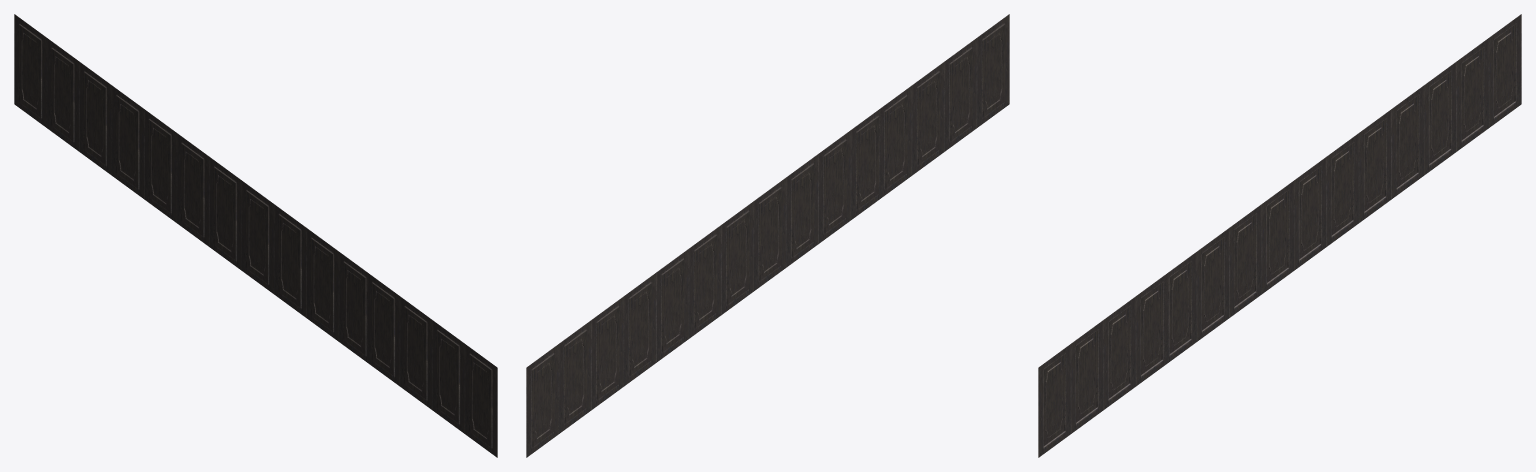
File: Wall_Panel_Test.fbx
The picture shows the model from 3 angles, left to right: view 1: azimuth 30°, elevation 25°; view 2: azimuth 150°, elevation 25°; view 3: azimuth 330°, elevation 25°; orthographic projection.
Parts seen in each view (by area): view 1: WallPanel9, WallPanel13, WallPanel11, WallPanel1, WallPanel10, WallPanel12, WallPanel, WallPanel2, WallPanel3, WallPanel6, WallPanel14, WallPanel5 (+3 smaller); view 2: WallPanel9, WallPanel13, WallPanel11, WallPanel1, WallPanel10, WallPanel12, WallPanel, WallPanel2, WallPanel6, WallPanel14, WallPanel5, WallPanel8 (+3 smaller); view 3: WallPanel9, WallPanel11, WallPanel13, WallPanel1, WallPanel10, WallPanel12, WallPanel, WallPanel2, WallPanel3, WallPanel6, WallPanel14, WallPanel5 (+3 smaller).
Part boxes in pixels (x1=…): WallPanel9: x1=176, y1=133, x2=209, y2=246; WallPanel13: x1=46, y1=38, x2=79, y2=151; WallPanel11: x1=111, y1=85, x2=144, y2=198; WallPanel1: x1=432, y1=320, x2=464, y2=433; WallPanel10: x1=144, y1=109, x2=176, y2=222; WallPanel12: x1=79, y1=61, x2=111, y2=175; WallPanel: x1=465, y1=344, x2=497, y2=457; WallPanel2: x1=400, y1=296, x2=432, y2=409; WallPanel3: x1=367, y1=272, x2=399, y2=386; WallPanel6: x1=274, y1=204, x2=306, y2=317; WallPanel14: x1=14, y1=14, x2=46, y2=127; WallPanel5: x1=306, y1=228, x2=338, y2=341; WallPanel9: x1=688, y1=225, x2=721, y2=338; WallPanel13: x1=558, y1=320, x2=591, y2=433; WallPanel11: x1=623, y1=273, x2=656, y2=386; WallPanel1: x1=944, y1=38, x2=976, y2=151; WallPanel10: x1=656, y1=249, x2=688, y2=362; WallPanel12: x1=591, y1=296, x2=623, y2=410; WallPanel: x1=977, y1=14, x2=1009, y2=127; WallPanel2: x1=912, y1=62, x2=944, y2=175; WallPanel6: x1=786, y1=154, x2=818, y2=267; WallPanel14: x1=526, y1=344, x2=558, y2=457; WallPanel5: x1=818, y1=130, x2=850, y2=243; WallPanel8: x1=721, y1=201, x2=753, y2=314; WallPanel9: x1=1326, y1=133, x2=1359, y2=246; WallPanel11: x1=1391, y1=85, x2=1424, y2=198; WallPanel13: x1=1456, y1=38, x2=1489, y2=151; WallPanel1: x1=1071, y1=320, x2=1103, y2=433; WallPanel10: x1=1359, y1=109, x2=1391, y2=222; WallPanel12: x1=1424, y1=61, x2=1456, y2=175; WallPanel: x1=1038, y1=344, x2=1070, y2=457; WallPanel2: x1=1103, y1=296, x2=1135, y2=409; WallPanel3: x1=1136, y1=272, x2=1168, y2=386; WallPanel6: x1=1229, y1=204, x2=1261, y2=317; WallPanel14: x1=1489, y1=14, x2=1521, y2=127; WallPanel5: x1=1197, y1=228, x2=1229, y2=341.
Size of the model in its own units: 0.2051 by 20.35 by 197.
